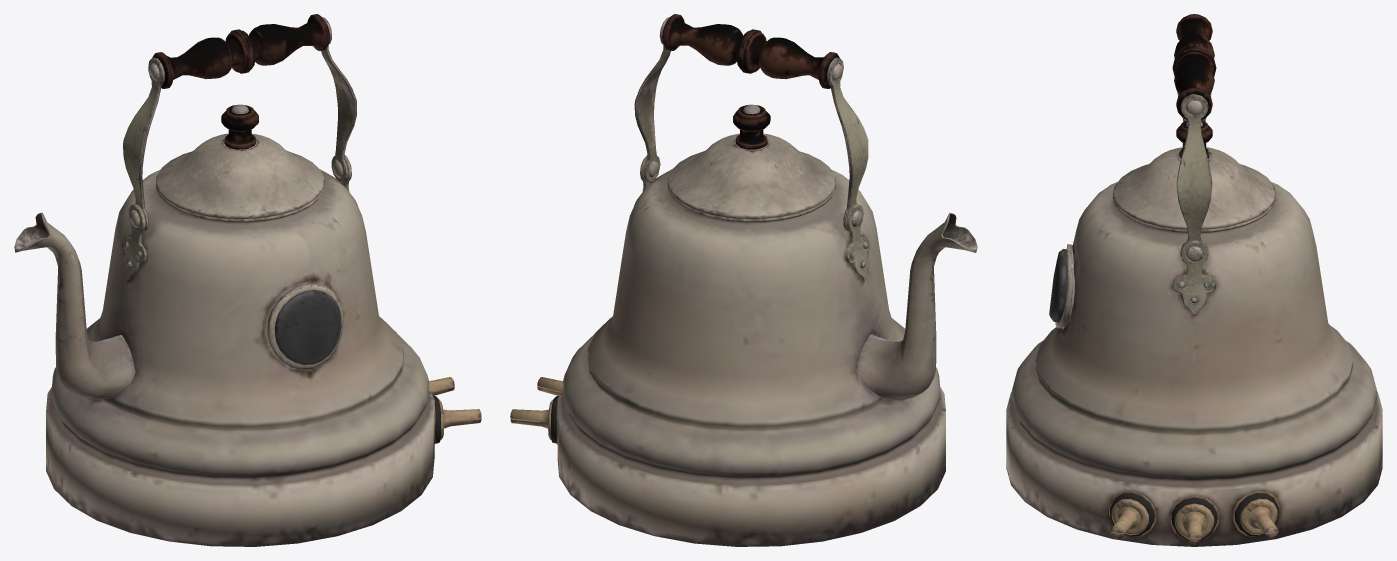
Rendered from vintage_electric_kettle.dec462e2.glb.
3 views of the same model, side by side, from view 1: azimuth 30°, elevation 25°; view 2: azimuth 150°, elevation 25°; view 3: azimuth 270°, elevation 25° (orthographic). The views are drawn at different scales.
Parts seen in each view (by area): view 1: vintage_electric_kettle; view 2: vintage_electric_kettle; view 3: vintage_electric_kettle.
Boxes of the visible parts, <box> form: vintage_electric_kettle: <box>14,14,481,546</box>; vintage_electric_kettle: <box>510,14,977,546</box>; vintage_electric_kettle: <box>1006,14,1382,546</box>.
Bounding box in the file's own units: 0.9322 × 0.8854 × 0.72.
Materials: 2 (2 with a texture image).
